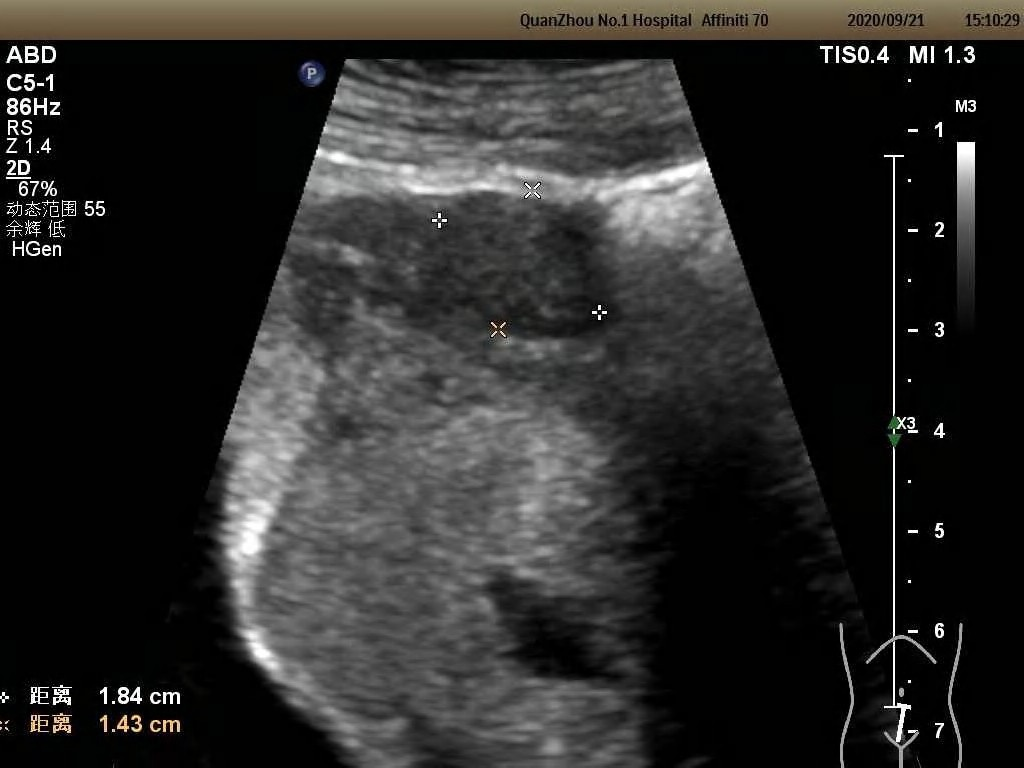肌瘤: (440, 192, 601, 332)
